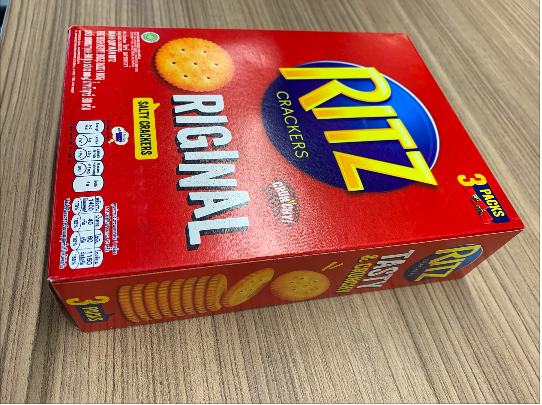Crackers_300-399g: (69, 27, 486, 279)
